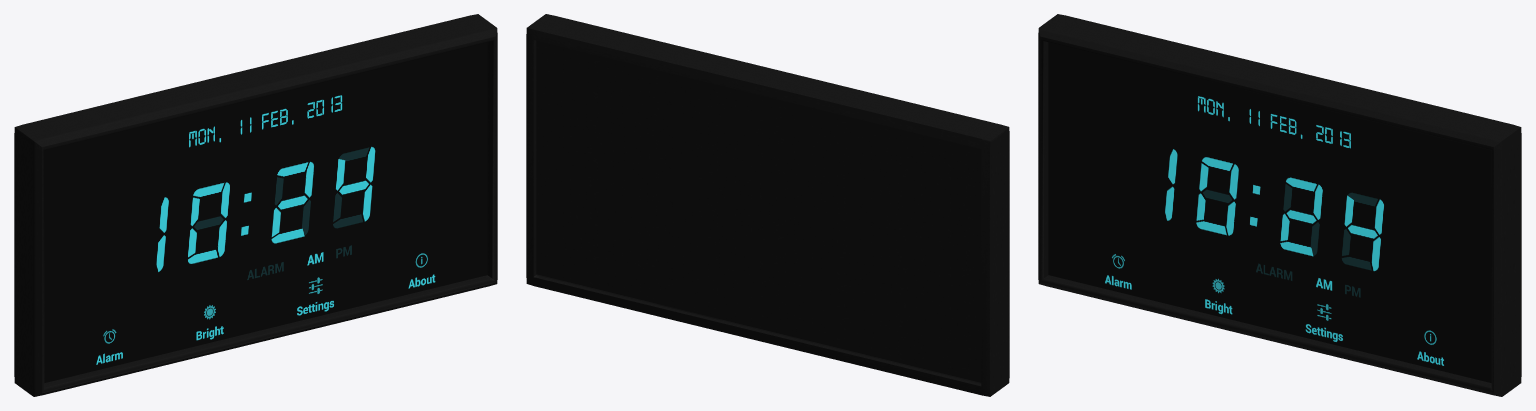
3 views of the same model, side by side, from view 1: azimuth 30°, elevation 25°; view 2: azimuth 150°, elevation 25°; view 3: azimuth 330°, elevation 25° (orthographic).
Parts seen in each view (by area): view 1: Digital_Clock; view 2: Digital_Clock; view 3: Digital_Clock.
Boxes of the visible parts, left/top/right/bottom form: Digital_Clock: left=14, top=14, right=497, bottom=396; Digital_Clock: left=526, top=14, right=1009, bottom=396; Digital_Clock: left=1038, top=14, right=1521, bottom=396.
Size of the model in its own units: 4.08 by 2.16 by 0.3589.
2 materials, 2 textured.
